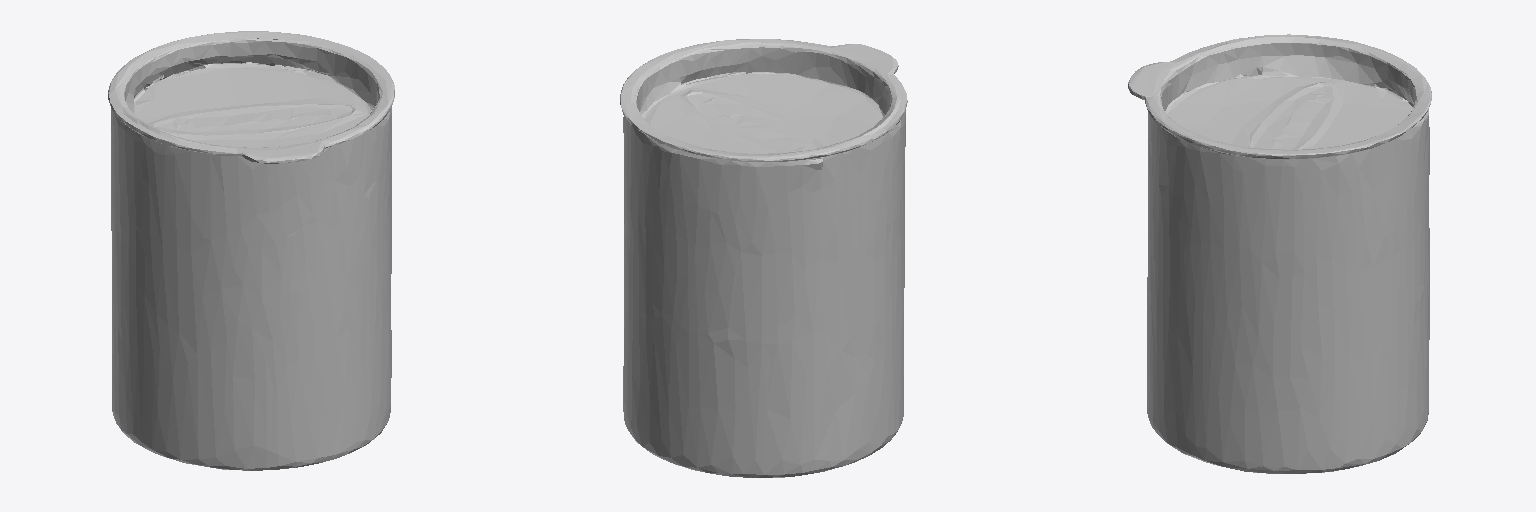
The model's file is textured_simple.obj.
3 views of the same model, side by side, from view 1: azimuth 30°, elevation 25°; view 2: azimuth 150°, elevation 25°; view 3: azimuth 270°, elevation 25° (orthographic).
Parts seen in each view (by area): view 1: textured.027; view 2: textured.027; view 3: textured.027.
Boxes of the visible parts, x1,y1,x2,y2 form: textured.027: [108, 31, 394, 470]; textured.027: [620, 39, 907, 477]; textured.027: [1128, 34, 1431, 473].
Bounding box in the file's own units: 6.65 × 8.29 × 7.02.